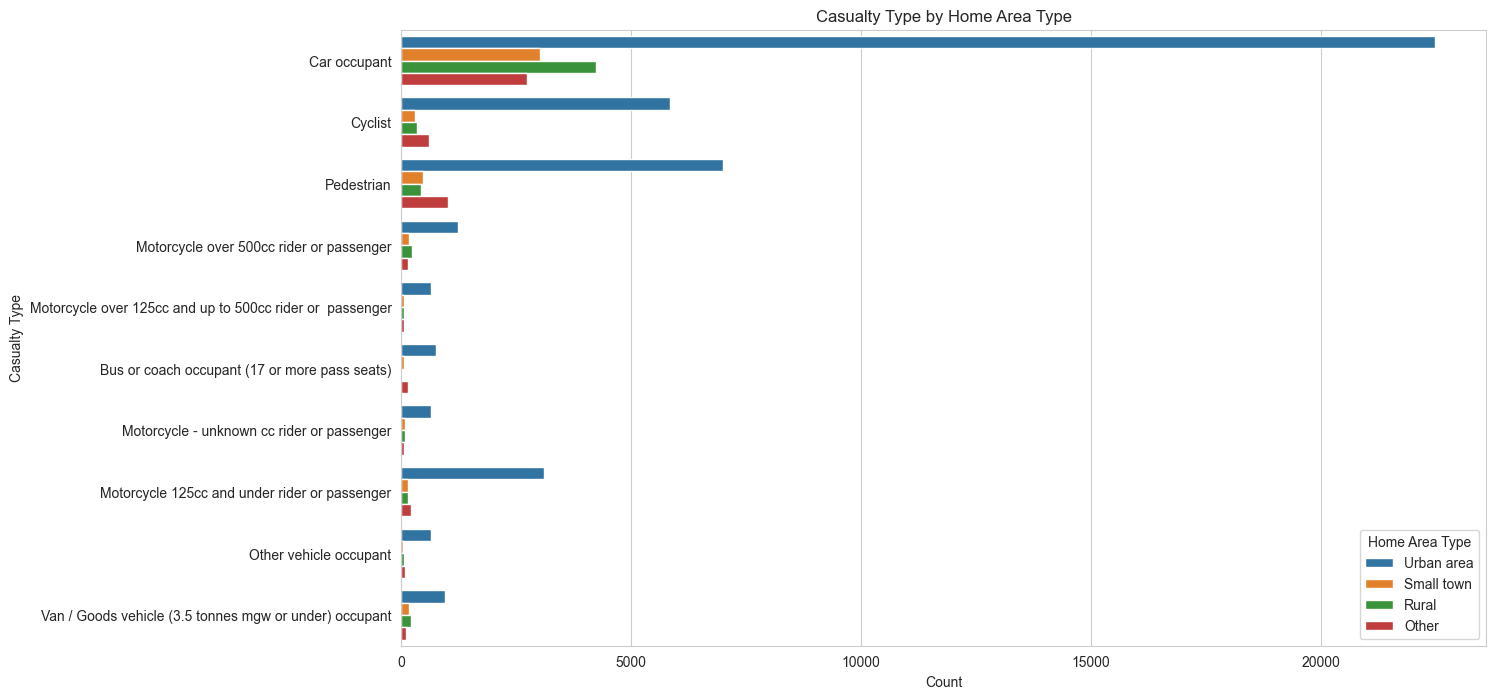

Layout of this report page (visuals, bound fields, positions):
{"tool":"powerbi","page":{"name":"Casualty Type / Home Area Type","canvas":[1280,720],"ordinal":8},"visuals":[{"type":"clusteredBarChart","fields":{"Series":["clean_df.casualty_home_area_type"],"Category":["clean_df.casualty_type"],"Y":["CountNonNull(clean_df.accident_index)"]},"box":[9.7,0,1270.3,719.8],"z":0}]}

Visuals, with their boxes on the page's 1280x720 design canvas (x1, y1, x2, y2). These are canvas units, not pixel positions in the 1496x699 screenshot, which may show the page scaled, cropped or inside an application window:
clusteredBarChart - clean_df.casualty_home_area_type x clean_df.casualty_type: 10:0:1280:720
